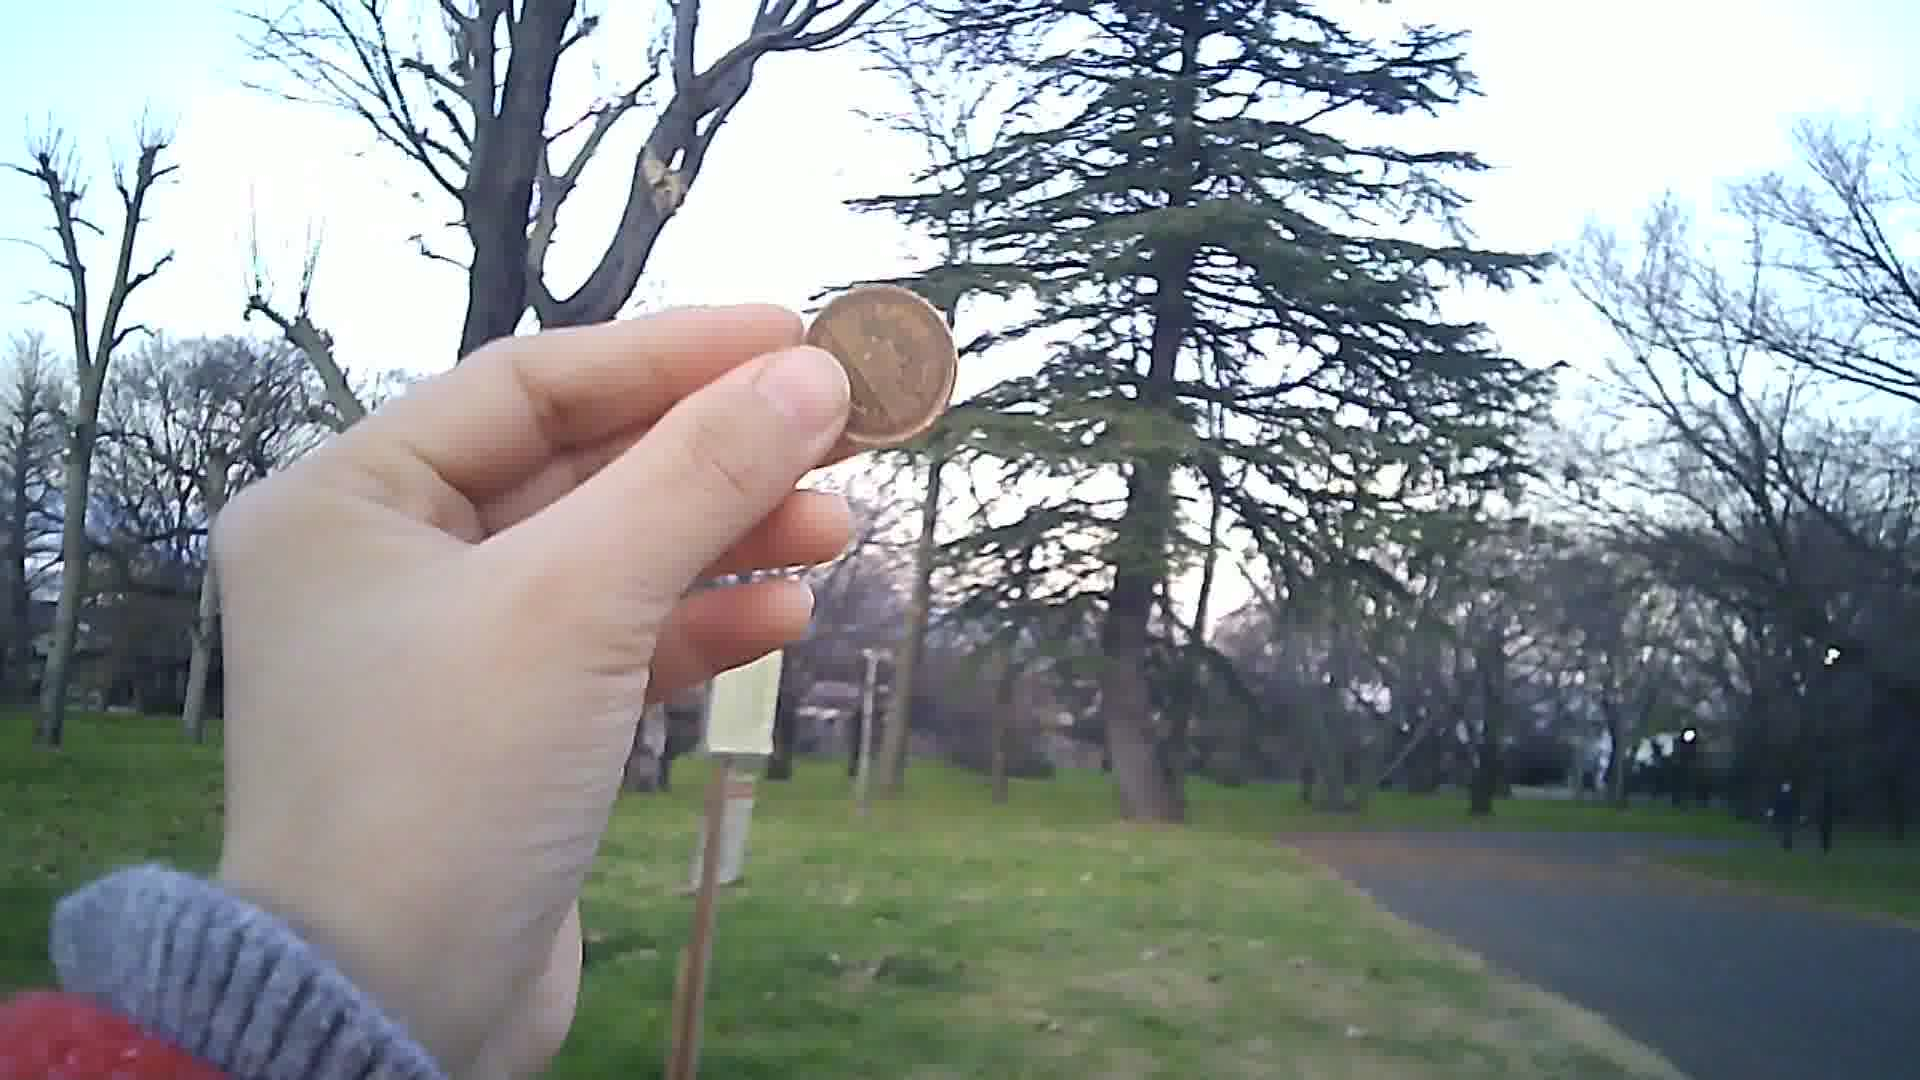10 Yen: (793, 280, 964, 451)
